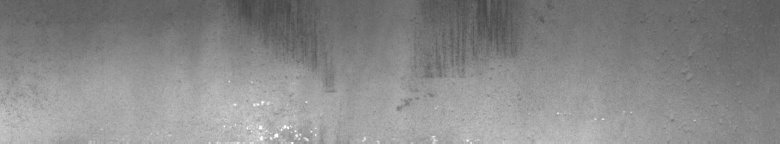hc: (245, 4, 317, 136)
